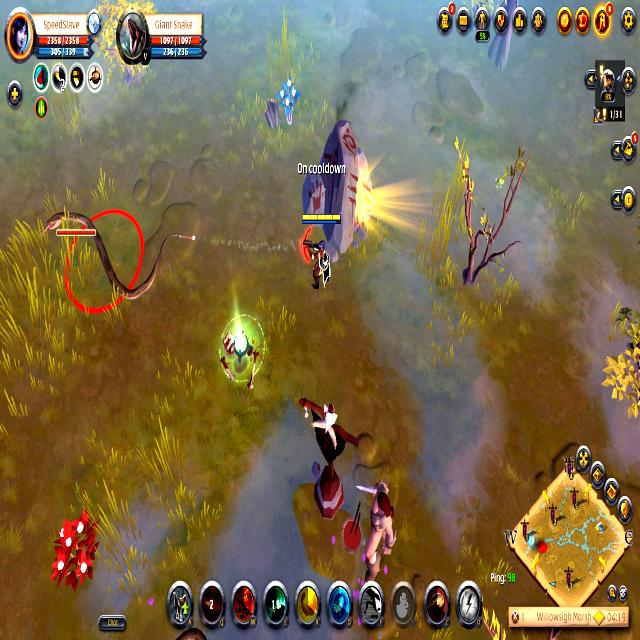hide: (45, 509, 110, 594), (275, 74, 302, 133)
ore: (40, 202, 181, 321), (354, 465, 398, 590)
red: (296, 208, 346, 310)
